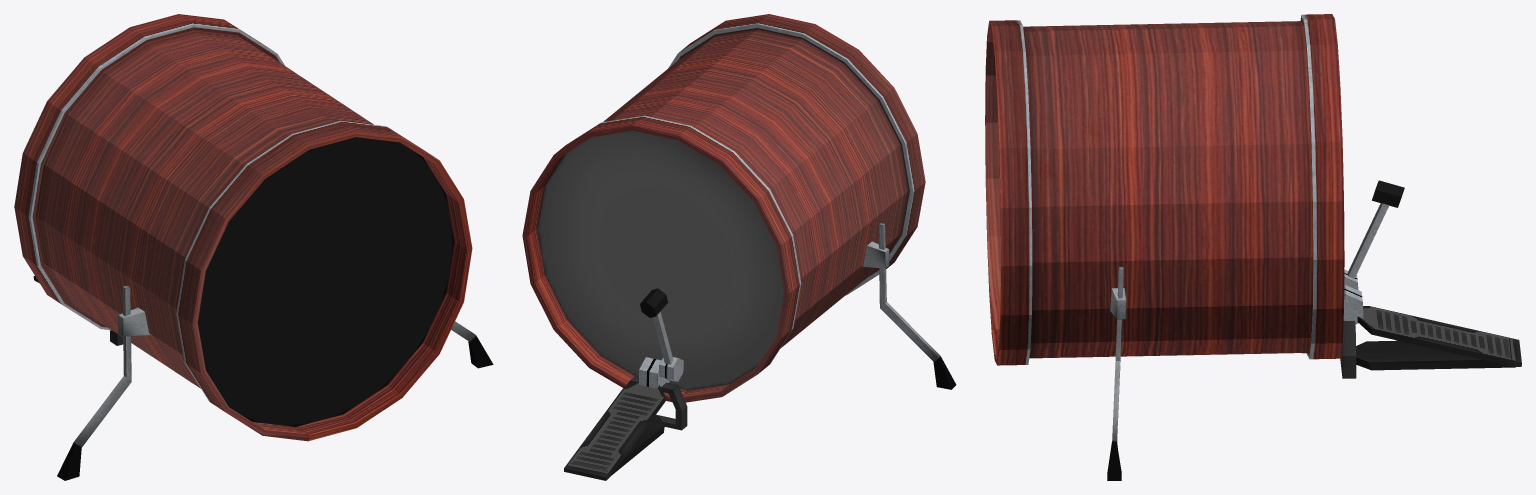
Rendered from LIH0210015.fbx.
3 renders of one model, left to right at view 1: azimuth 30°, elevation 25°; view 2: azimuth 150°, elevation 25°; view 3: azimuth 270°, elevation 25°, orthographic. The views are drawn at different scales.
Visible parts, largest first — view 1: smLIH0210015; view 2: smLIH0210015; view 3: smLIH0210015.
Boxes of the visible parts, x1=… form: smLIH0210015: x1=14, y1=14, x2=493, y2=480; smLIH0210015: x1=522, y1=14, x2=956, y2=480; smLIH0210015: x1=985, y1=14, x2=1521, y2=480.
Bounding box in the file's own units: 97.73 × 67.51 × 98.75.
1 material, 1 textured.
